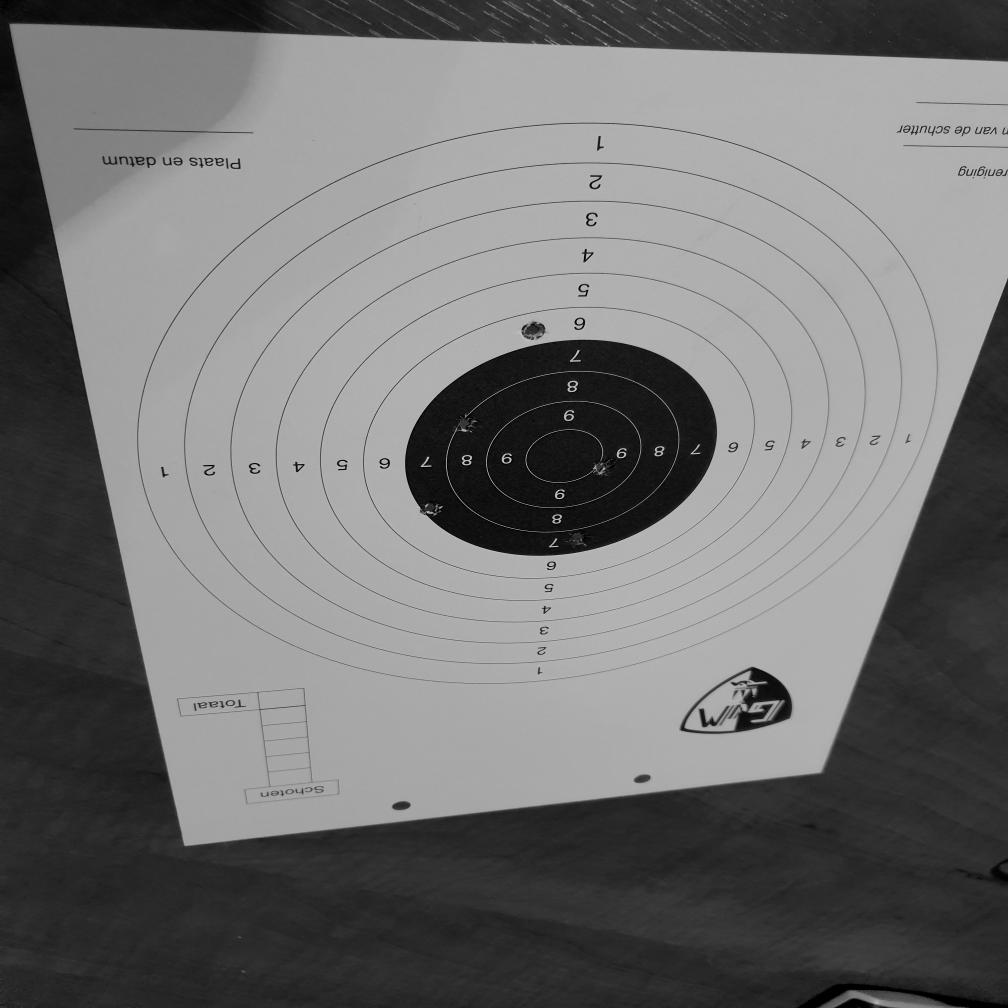10: (591, 459, 617, 477)
6: (520, 320, 548, 342)
7: (565, 529, 594, 547), (418, 500, 444, 517)
8: (452, 414, 480, 433)
Target: (135, 118, 936, 687)
black_contour: (405, 339, 718, 557)
